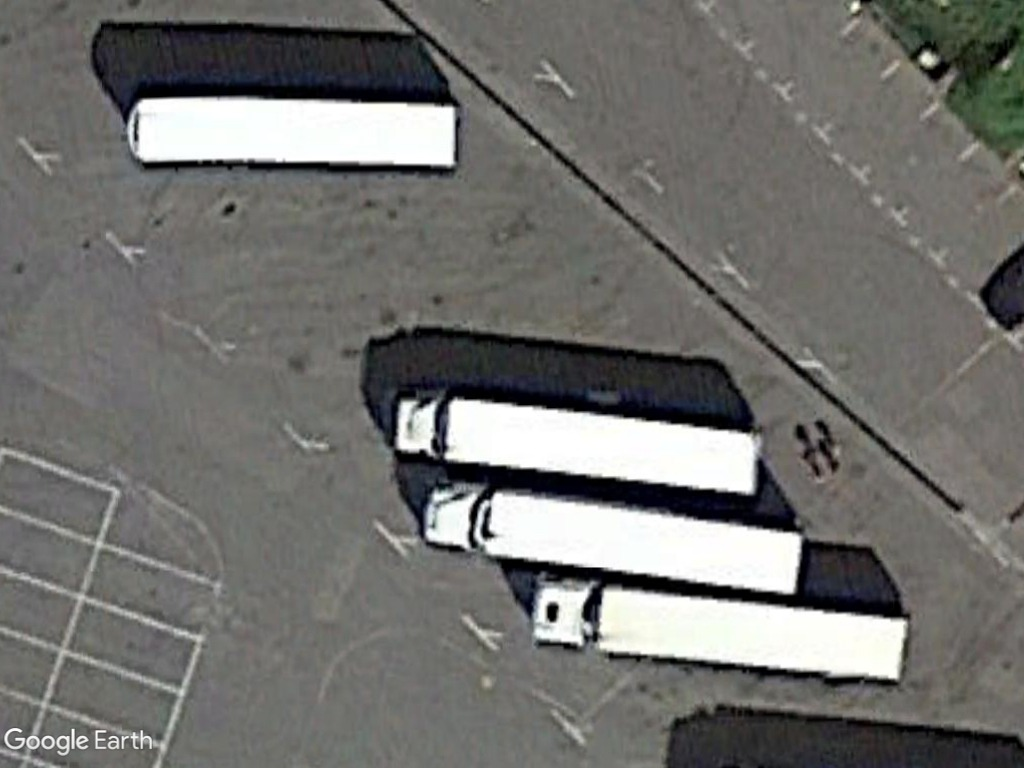longvehicle: (414, 473, 806, 602), (520, 567, 915, 690), (386, 387, 766, 502), (119, 92, 467, 178)
